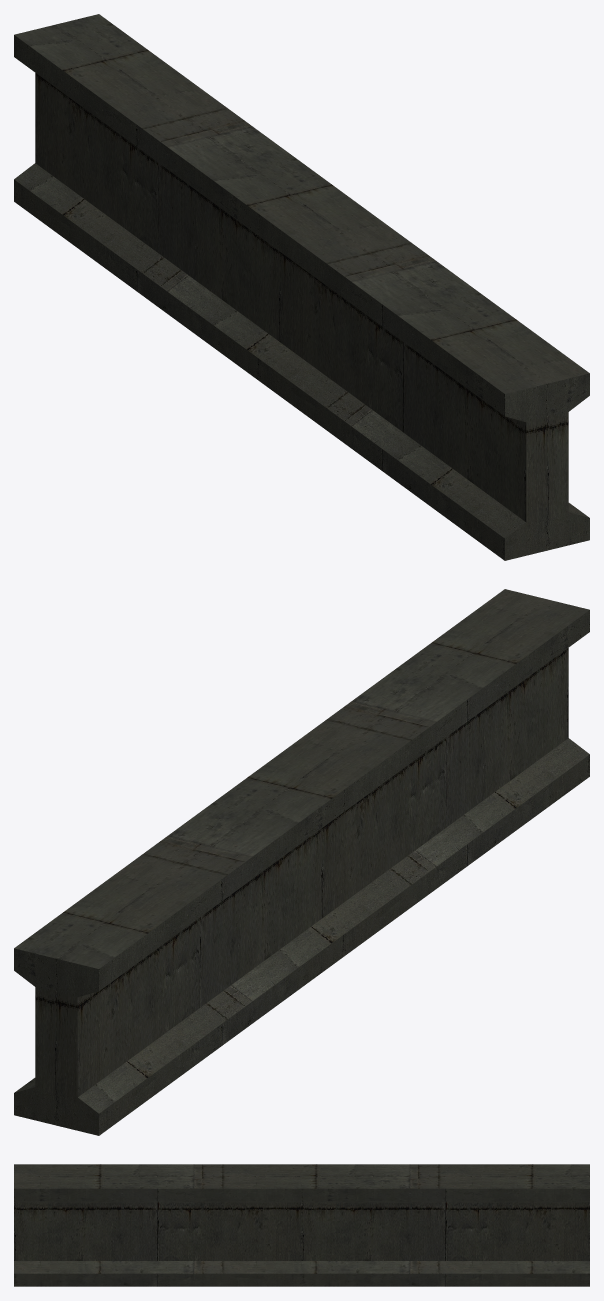
File: seam_hr_1.glb
3 renders of one model, top to bottom at view 1: azimuth 30°, elevation 25°; view 2: azimuth 150°, elevation 25°; view 3: azimuth 270°, elevation 25°, orthographic. The views are drawn at different scales.
Parts seen in each view (by area): view 1: seam_hr_1; view 2: seam_hr_1; view 3: seam_hr_1.
Part boxes in pixels (x1,y1,x2,y2): seam_hr_1: (14, 14, 589, 560); seam_hr_1: (14, 589, 589, 1135); seam_hr_1: (14, 1164, 589, 1286).
Size of the model in its own units: 0.8 by 1.5 by 8.
1 material, 1 textured.
